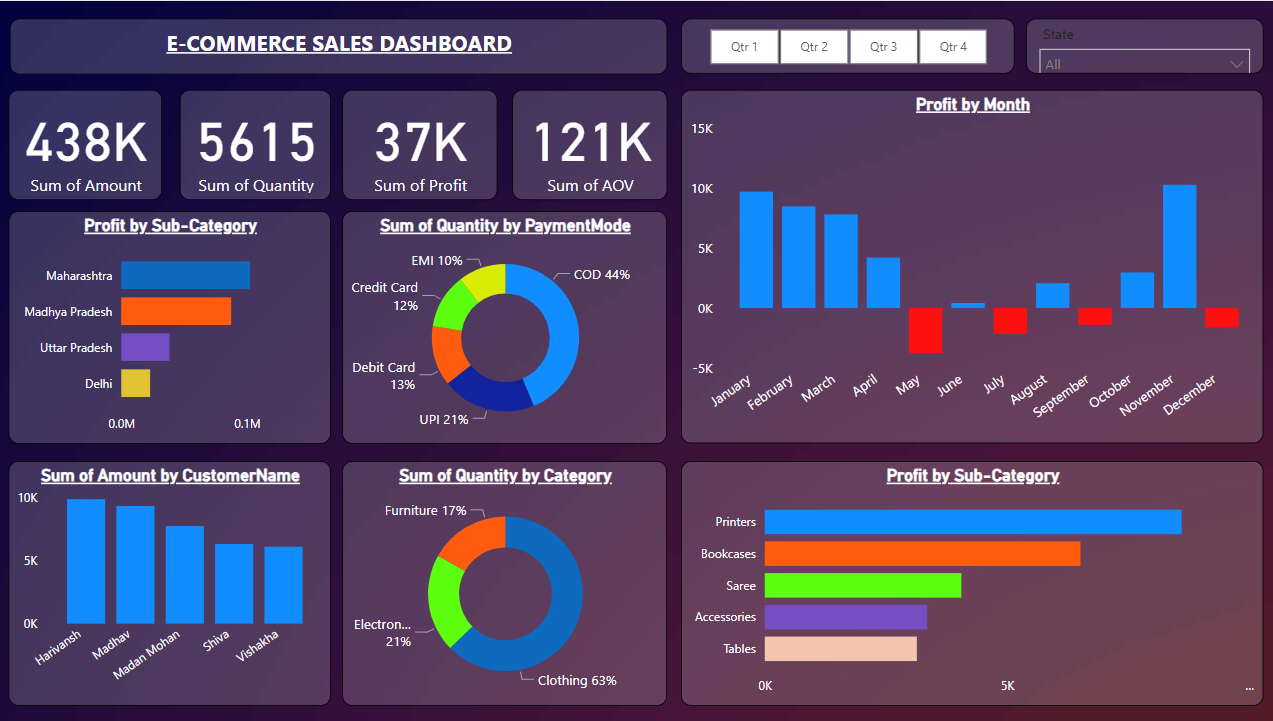

Layout of this report page (visuals, bound fields, positions):
{"tool":"powerbi","page":{"name":"Page 1","canvas":[1280,720],"ordinal":0},"visuals":[{"type":"textbox","box":[13.7,0,657.3,54.9],"z":0},{"type":"columnChart","title":"Profit by Month","fields":{"Category":["Orders (1).Order Date.Variation.Date Hierarchy.Month"],"Y":["Details (1).Profit"]},"box":[684.7,70,583.2,354],"z":1000},{"type":"barChart","title":"Profit by Sub-Category","fields":{"Category":["Details (1).Sub-Category"],"Y":["Details (1).Profit"]},"box":[685,446.2,582.5,244.8],"z":2000},{"type":"donutChart","fields":{"Category":["Details (1).Category"],"Y":["Details (1).Quantity"]},"box":[346.1,446.2,325.6,244.8],"z":3000},{"type":"donutChart","fields":{"Category":["Details (1).PaymentMode"],"Y":["Details (1).Quantity"]},"box":[346.1,193,325.6,231.6],"z":4000},{"type":"card","fields":{"Values":["Details (1).Amount"]},"box":[12.3,70,153.7,109.8],"z":5000},{"type":"card","fields":{"Values":["Details (1).Quantity"]},"box":[183.9,70,150.9,109.8],"z":5001},{"type":"card","fields":{"Values":["Details (1).Profit"]},"box":[345.8,70,155.1,109.8],"z":5002},{"type":"card","fields":{"Values":["Details (1).Avg Order Value"]},"box":[516,70,155.1,109.8],"z":5003},{"type":"barChart","title":"Profit by Sub-Category","fields":{"Category":["Orders (1).State"],"Y":["Details (1).Amount"]},"box":[12.1,193,323.2,231.6],"z":5004},{"type":"columnChart","fields":{"Category":["Orders (1).CustomerName"],"Y":["Details (1).Amount"]},"box":[12,446,323,245],"z":5005},{"type":"slicer","fields":{"Values":["Orders (1).Order Date.Variation.Date Hierarchy.Quarter"]},"box":[684.7,0,333.4,54.9],"z":5006},{"type":"slicer","fields":{"Values":["Orders (1).State"]},"box":[1030.5,0,237.4,54.9],"z":5007}]}

Visuals, with their boxes in screenshot pixels (x1, y1, x2, y2), scaled from the page's 1280x720 canvas onto the 1273x721 screenshot:
textbox: [14,0,667,55]
"Profit by Month" columnChart: [681,70,1261,425]
"Profit by Sub-Category" barChart: [681,447,1261,692]
donutChart - Details (1).Category x Details (1).Quantity: [344,447,668,692]
donutChart - Details (1).PaymentMode x Details (1).Quantity: [344,193,668,425]
card - Details (1).Amount: [12,70,165,180]
card - Details (1).Quantity: [183,70,333,180]
card - Details (1).Profit: [344,70,498,180]
card - Details (1).Avg Order Value: [513,70,667,180]
"Profit by Sub-Category" barChart: [12,193,333,425]
columnChart - Orders (1).CustomerName x Details (1).Amount: [12,447,333,692]
slicer - Orders (1).Order Date.Variation.Date Hierarchy.Quarter: [681,0,1013,55]
slicer - Orders (1).State: [1025,0,1261,55]
